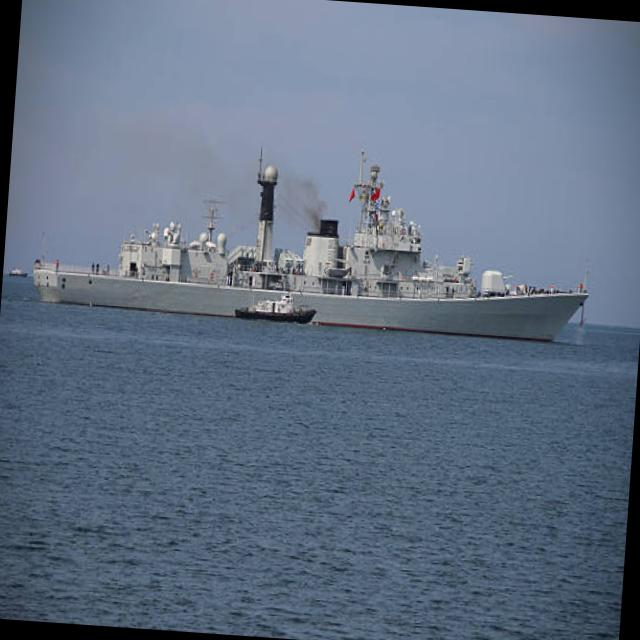Military: (30, 150, 587, 342)
